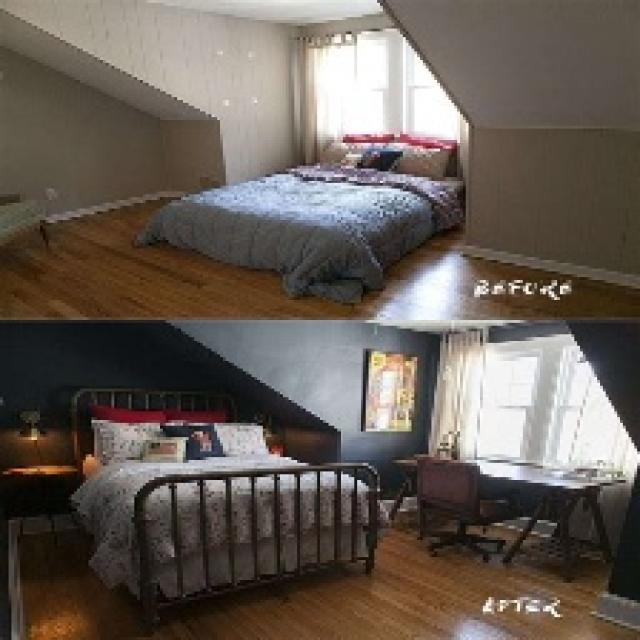Bed: (68, 386, 386, 631)
